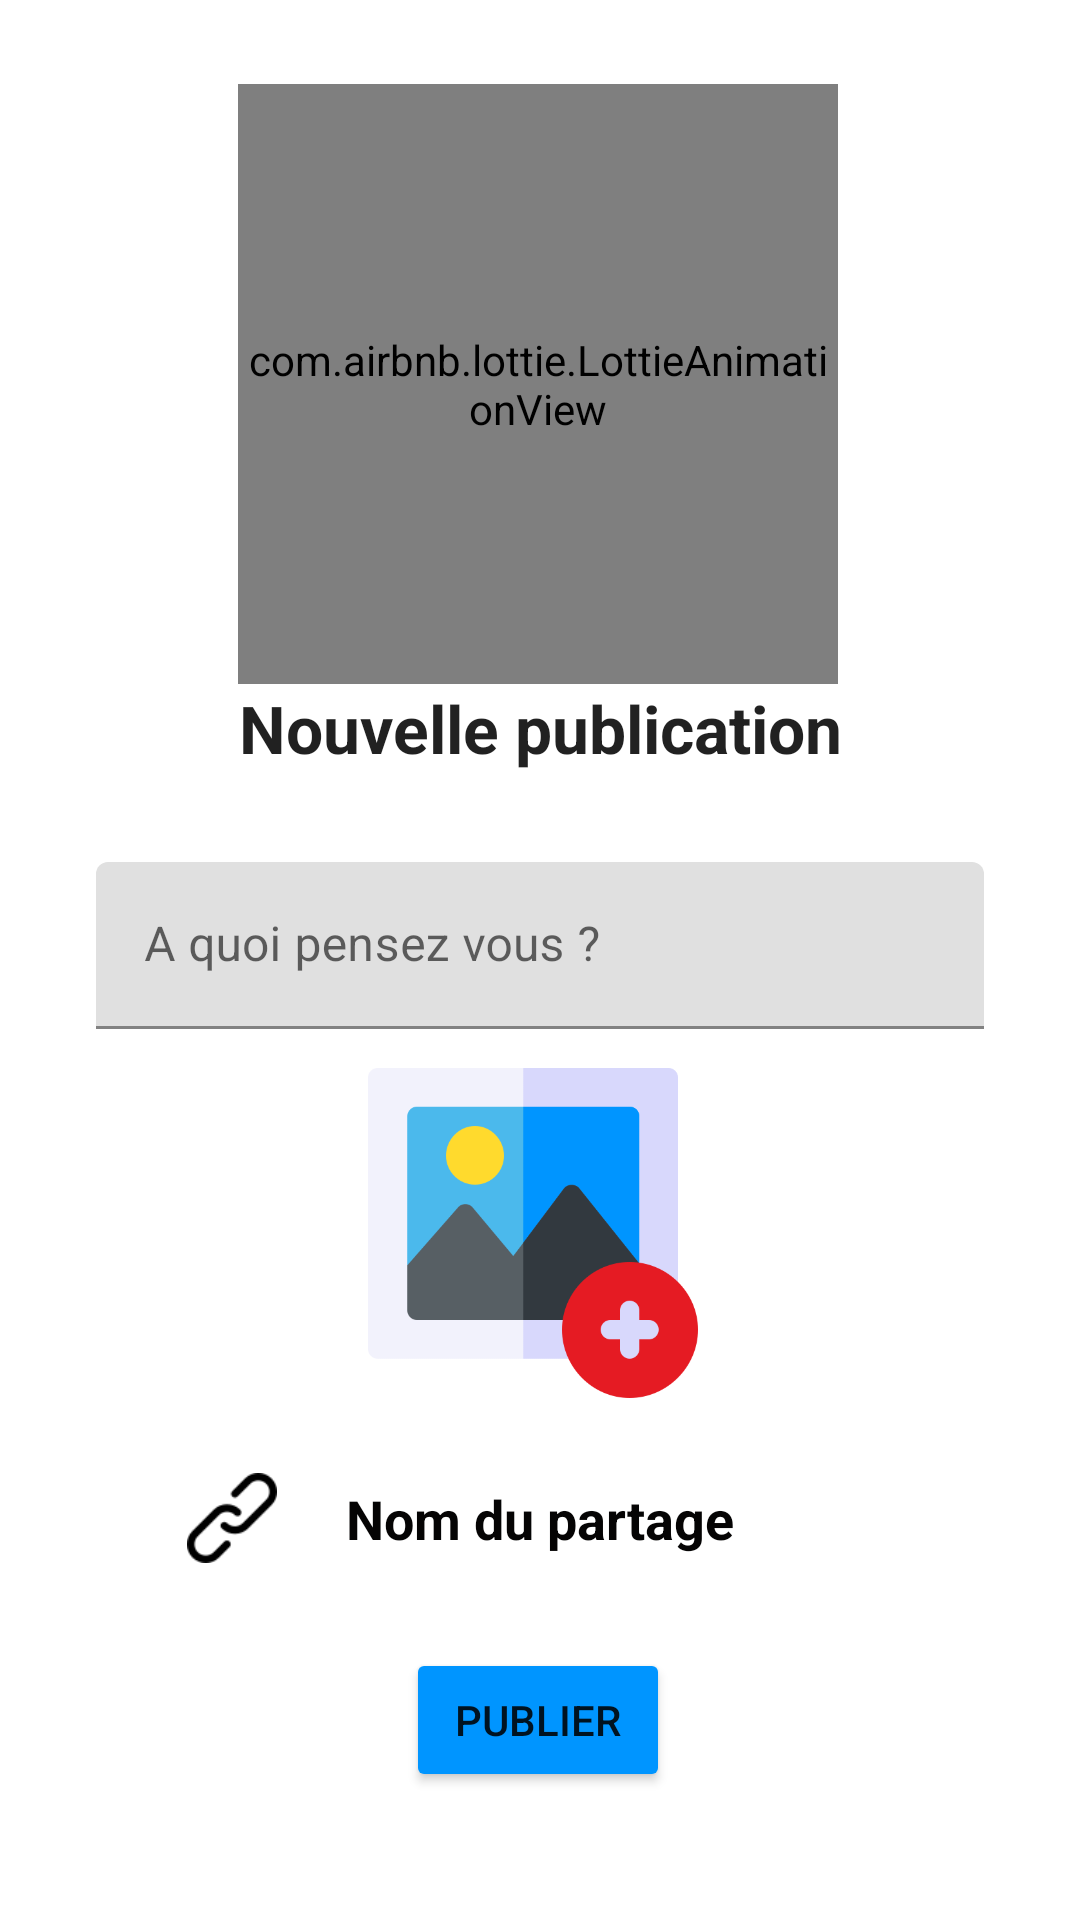

Icons on this 1080 × 1920 Android screen, each with the point to tap as point (x, y):
addpicture: point (552, 1233)
link: point (232, 1518)
